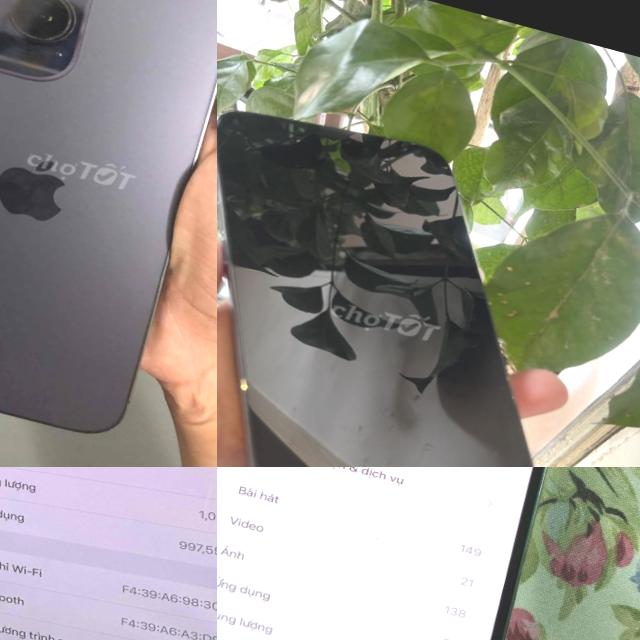gen_12_13: (217, 86, 640, 467), (217, 467, 610, 640)
gen_14: (0, 0, 217, 467)
gen_15: (0, 467, 217, 640)
